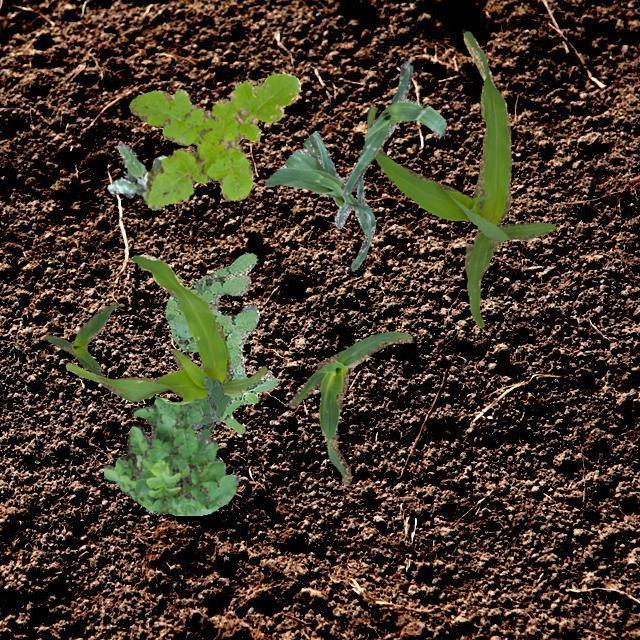crop: (366, 31, 554, 327), (64, 254, 266, 401), (288, 331, 410, 484), (264, 130, 374, 270), (340, 60, 446, 194), (44, 300, 118, 376)
weed: (127, 70, 300, 206), (164, 252, 278, 432), (102, 394, 238, 514), (106, 142, 166, 202), (192, 374, 228, 438)
